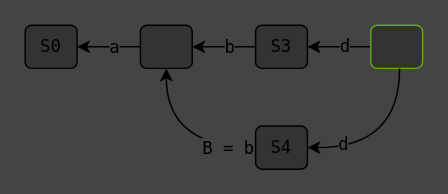
This 448x194 diagram has some shape labels left out. The shapes that lost their labels are listed below. From the top down, each one's box as (x1, y1, x2, y2) in pixels, then its label:
(139, 24, 192, 68): S2
(369, 24, 423, 68): S6
